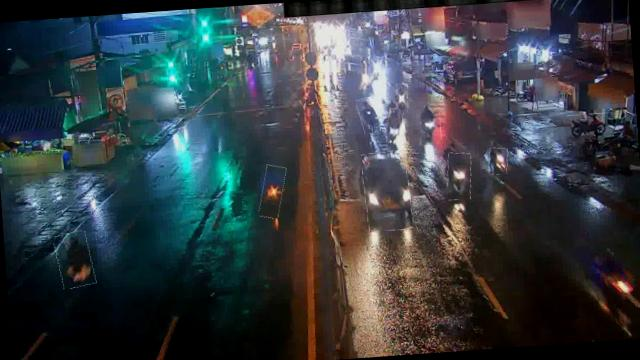Bike: (54, 230, 94, 288), (257, 164, 286, 219), (446, 152, 472, 201), (566, 112, 612, 138), (416, 108, 441, 142), (356, 97, 378, 134), (385, 107, 404, 142), (488, 148, 508, 176), (395, 83, 408, 113)
Car: (362, 150, 412, 232)
